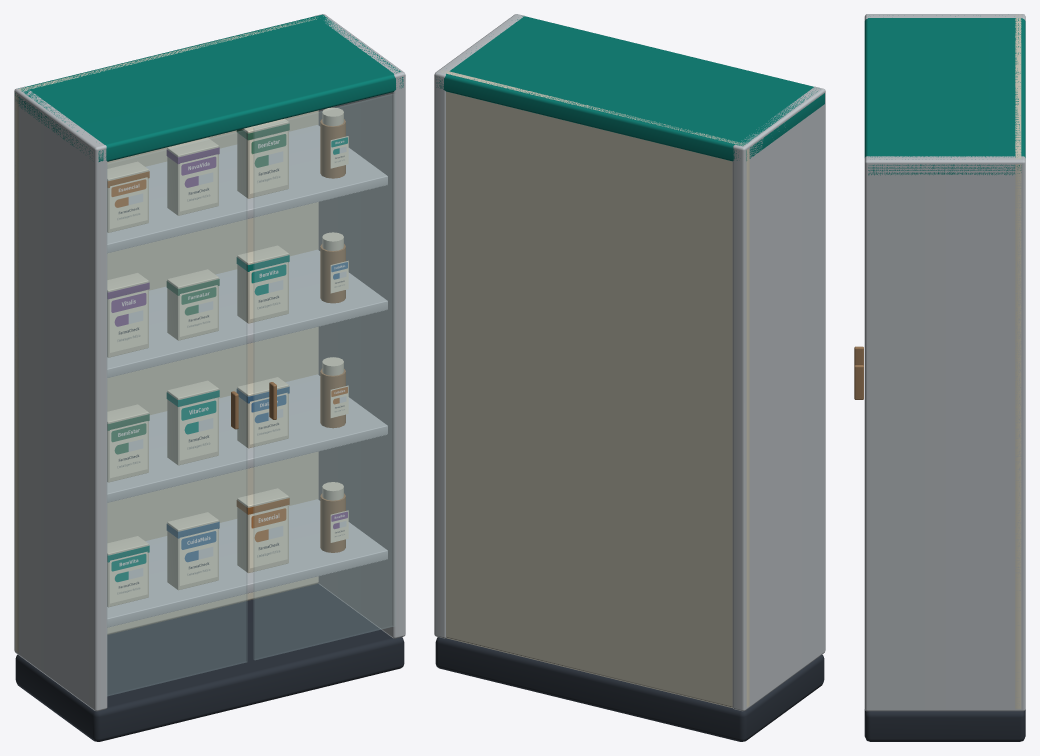
Rendered from prop_vitrine_v002.glb.
3 views of the same model, side by side, from view 1: azimuth 30°, elevation 25°; view 2: azimuth 150°, elevation 25°; view 3: azimuth 270°, elevation 25° (orthographic). The views are drawn at different scales.
Parts seen in each view (by area): view 1: FarmaPalette.001, SoftGlass.001, FarmaLabels.001; view 2: FarmaPalette.001; view 3: FarmaPalette.001.
Part boxes in pixels (<box>): FarmaPalette.001: <box>14,14,405,741</box>; SoftGlass.001: <box>107,94,395,695</box>; FarmaLabels.001: <box>110,131,348,603</box>; FarmaPalette.001: <box>434,14,825,741</box>; FarmaPalette.001: <box>854,14,1025,741</box>.
Size of the model in its own units: 1.2 by 2.2 by 0.5855.
Materials: 3 (1 with a texture image).
